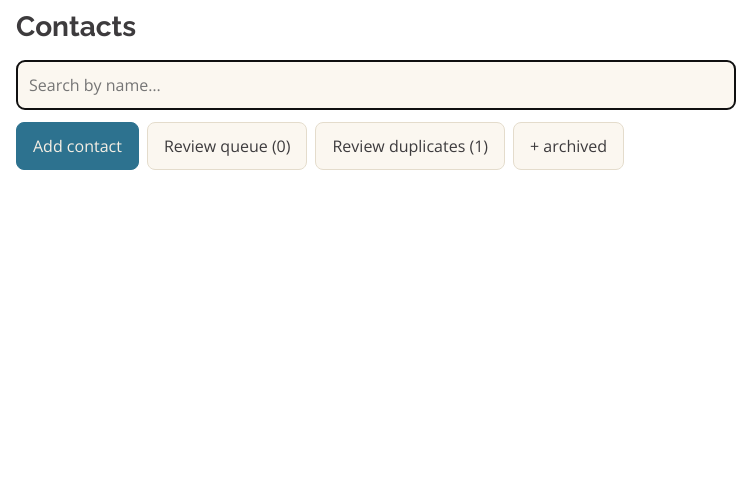
Test: the duplicates worklist row (feature 069, M-R18) › shows each side's reach, standing and record age, so the decision needs no other screen
Click the button "Review duplicates (1)": x=410, y=146 [316, 122, 505, 170]
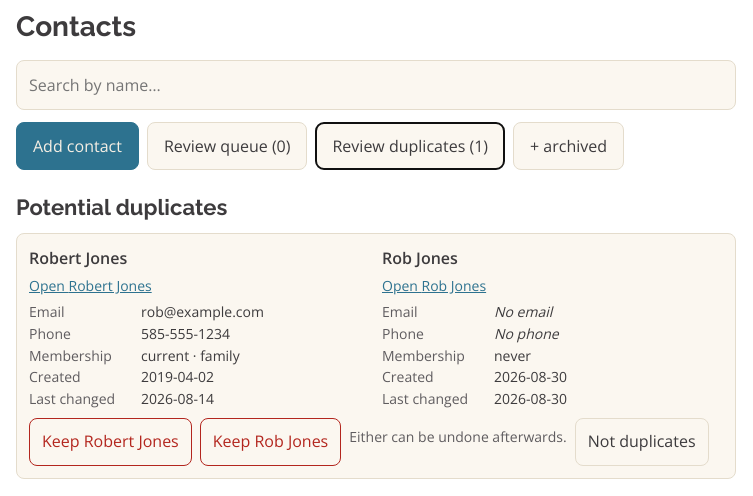
Expected: the text "rob@example.com" is shown, [141, 301, 264, 323]
Expected: the text "585-555-1234" is shown, [141, 323, 230, 345]
Expected: the text "current · family" is shown, [141, 345, 240, 366]
